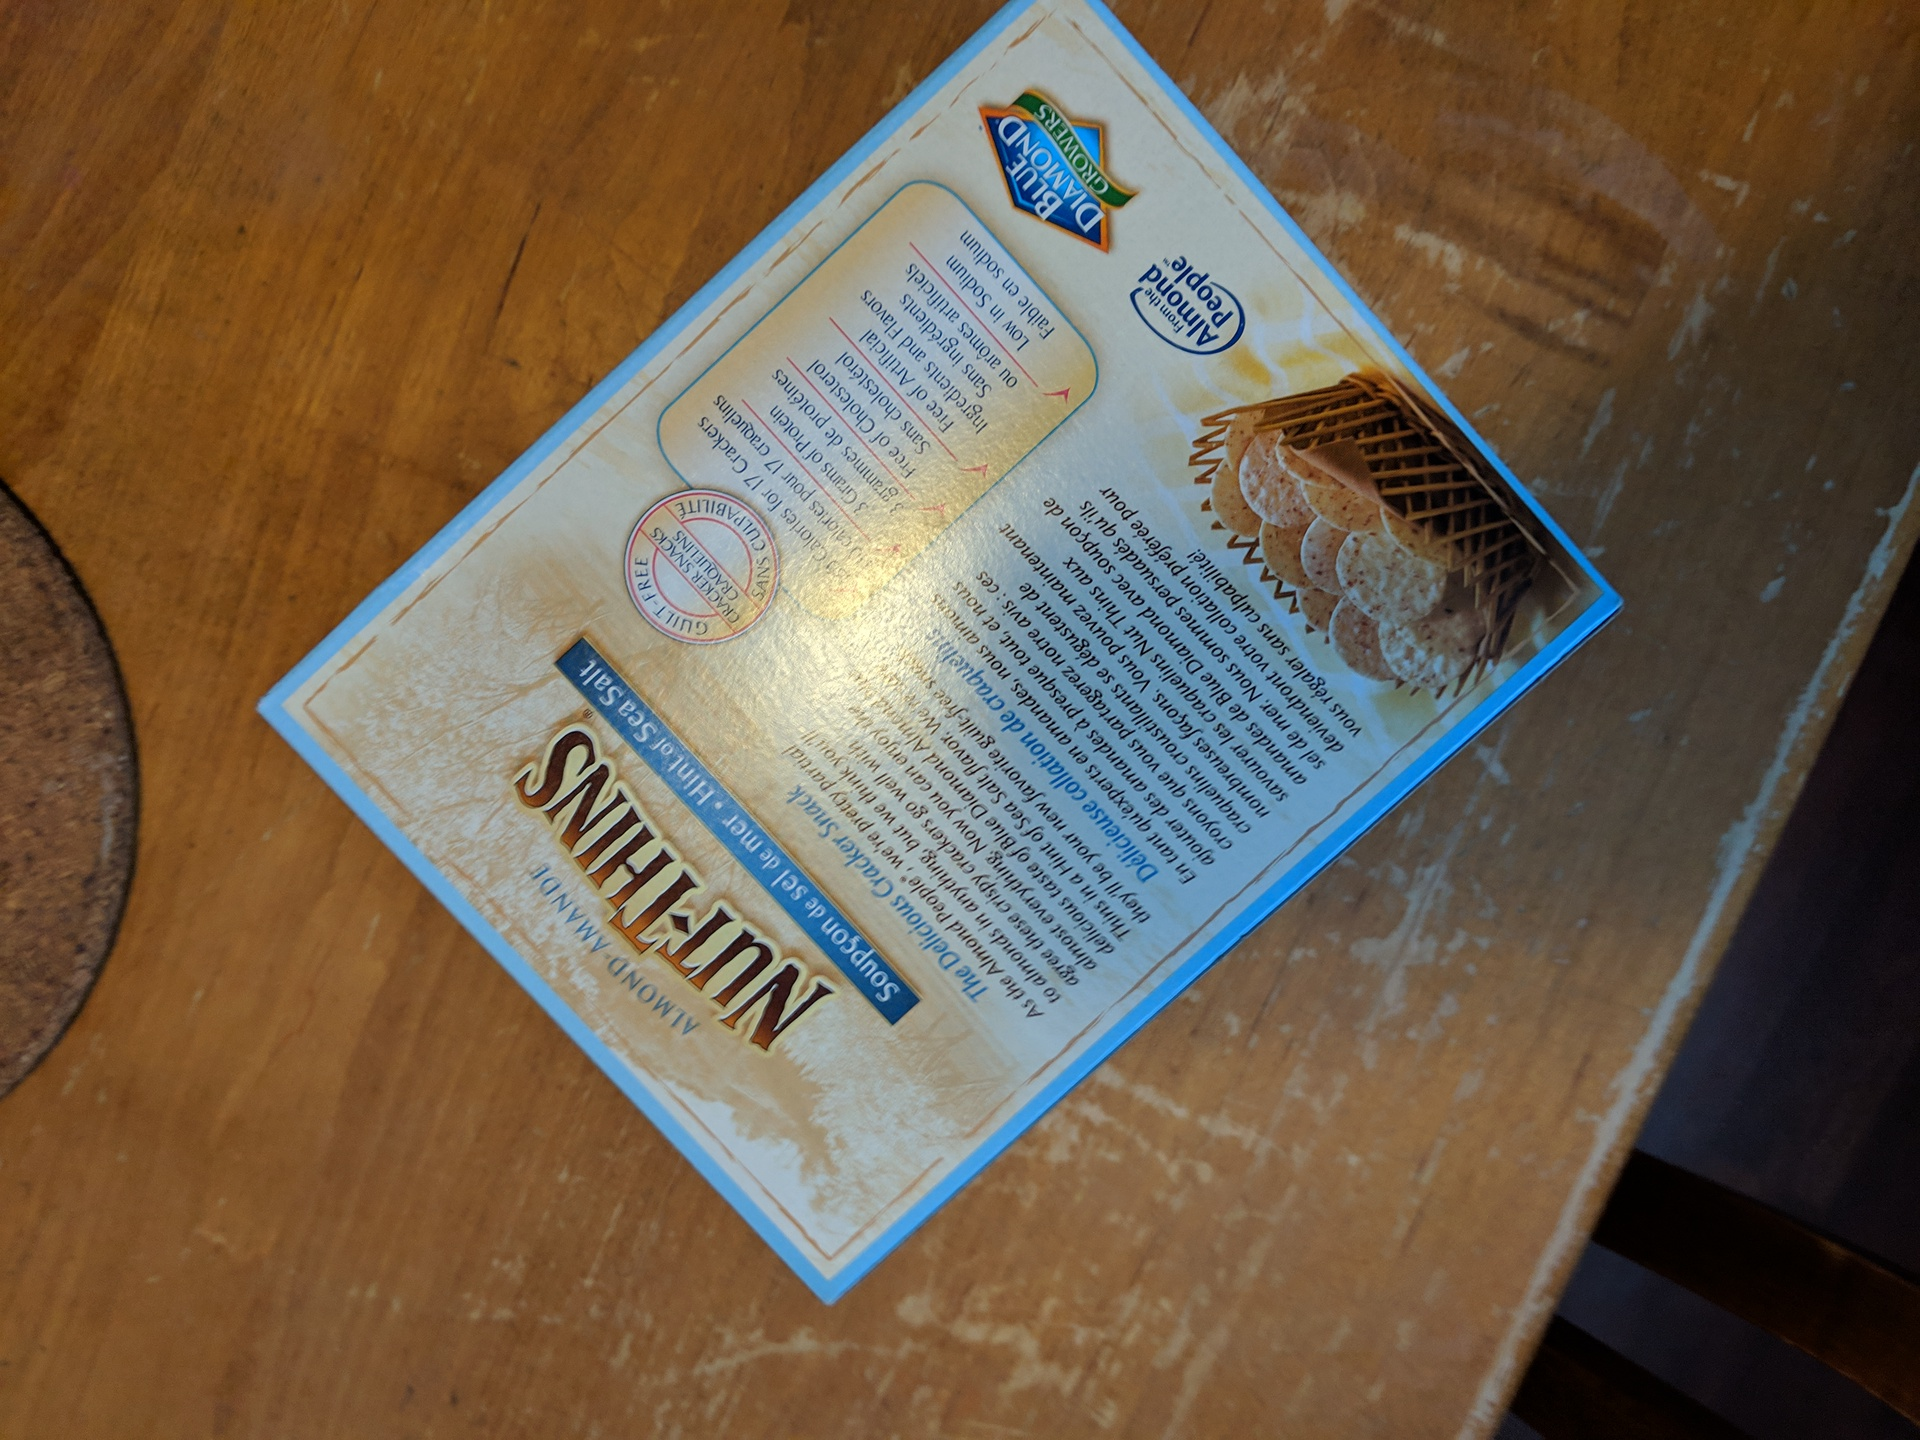blue_diamond_nut_thins_almond_seasalt: (437, 36, 1515, 1157)
